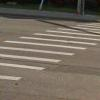Crosswalk: (1, 20, 96, 90)
